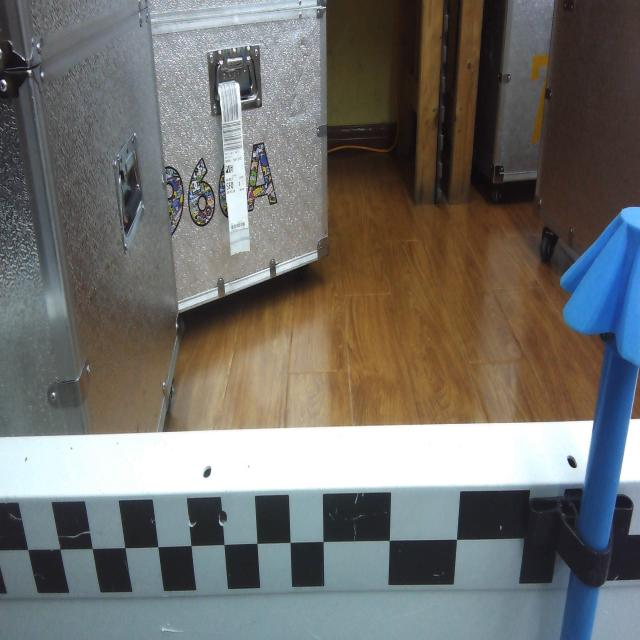zblue-Stake-Head: (559, 206, 640, 367)
